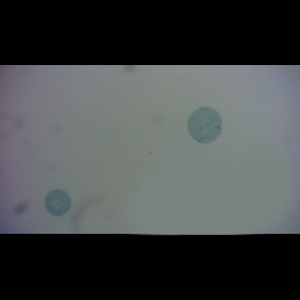erythrocyte: (43, 188, 72, 217)
punctate reticulocyte: (185, 105, 224, 145)
